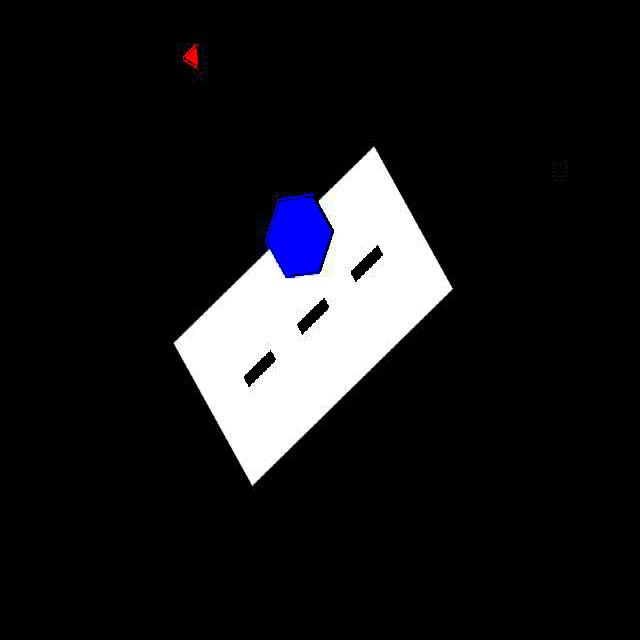blue_hexagon: (265, 193, 334, 278)
red_triangle: (183, 44, 199, 68)
